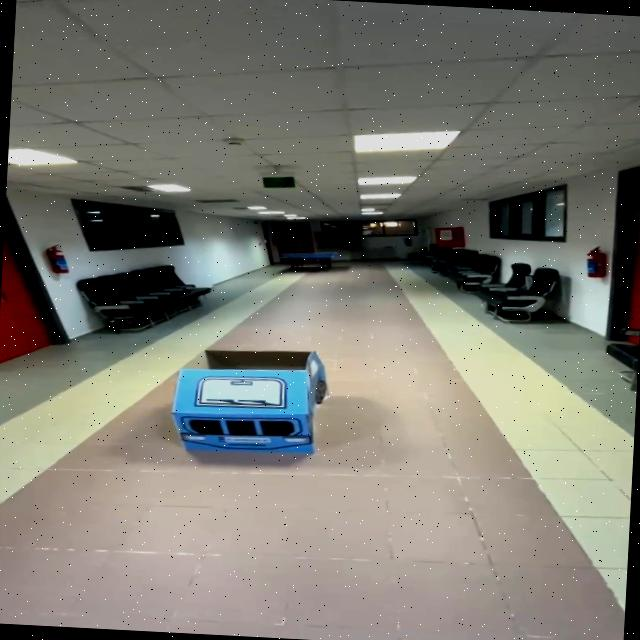blue_car: (154, 322, 370, 491)
